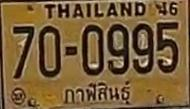0: (38, 25, 60, 77), (81, 24, 103, 74)
5: (156, 21, 177, 72)
7: (12, 25, 33, 78)
9: (107, 23, 128, 74), (132, 23, 153, 73)
KSN: (59, 80, 136, 105)
